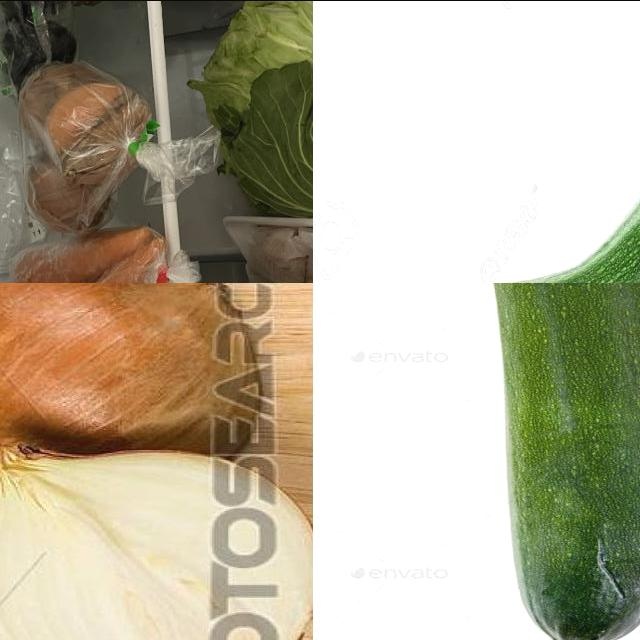cabbage: (190, 1, 314, 224)
carrot: (12, 222, 156, 283), (24, 235, 167, 283)
eggplant: (4, 18, 80, 92), (1, 1, 68, 38)
onion: (1, 444, 314, 640), (1, 283, 242, 499), (44, 82, 152, 180), (24, 146, 116, 236), (18, 61, 105, 150)
zucchini: (403, 283, 640, 639), (340, 45, 640, 283)
